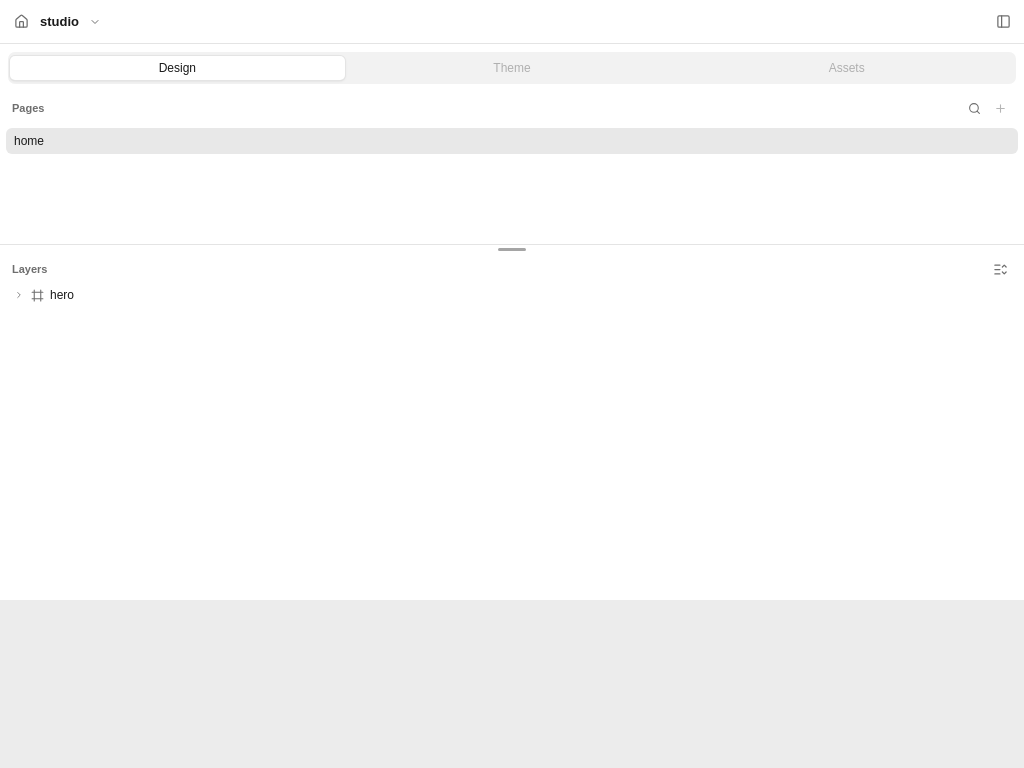
LeftPanel › element rows › lists a frame's elements once its row opens
Step 1. Click the button named "Show the elements of hero" → [19, 295], box x1=7 y1=283 x2=31 y2=307
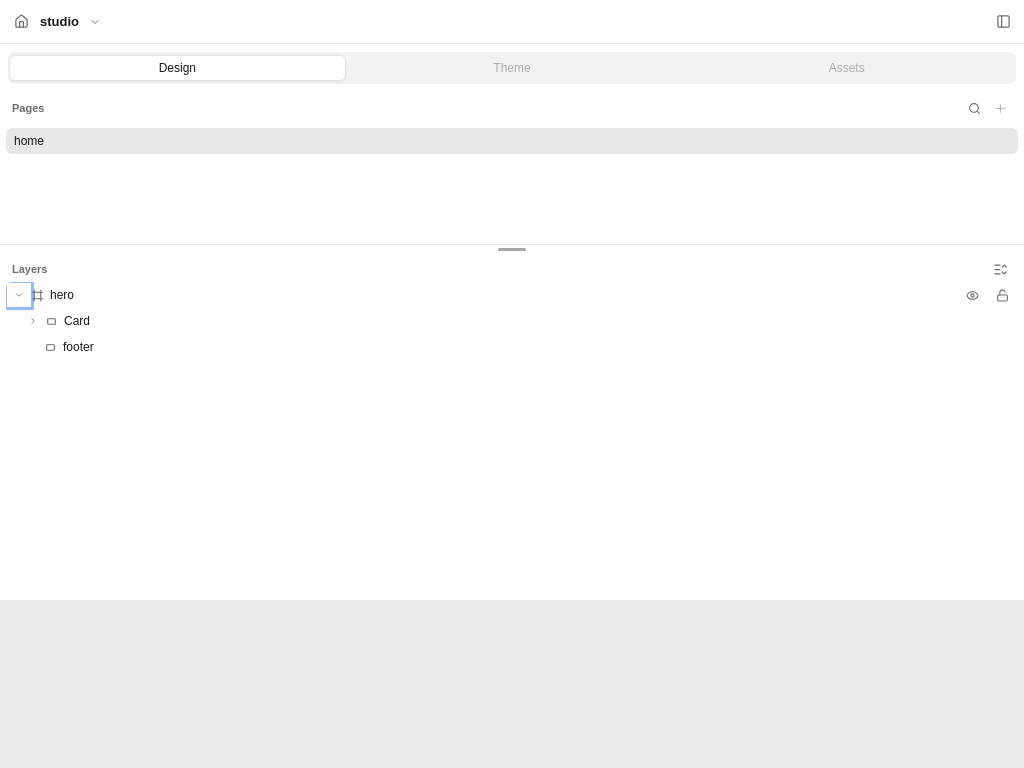
Result: the list items read "Card", "footer", in this order at x1=6 y1=308 x2=1018 y2=334; x1=6 y1=334 x2=1018 y2=360
